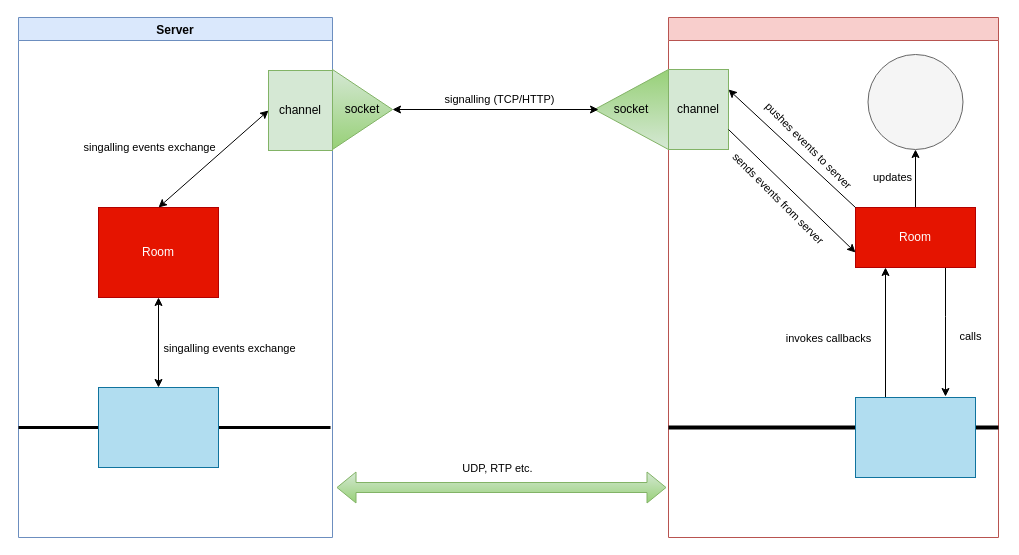
Image size: 1019x555. Some labels were removed from this diagram. The box of each missing label's shape, as (x1, y1, x2, y2) in pixels:
Client: (668, 16, 998, 538)
MembraneWebRTC: (854, 396, 976, 478)
SFU Engine: (98, 386, 218, 468)
UI: (867, 54, 963, 150)
